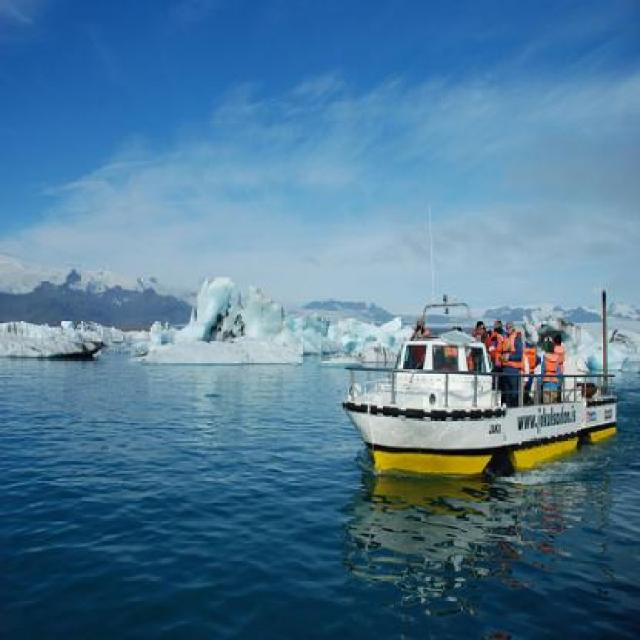ship: (340, 303, 618, 472)
